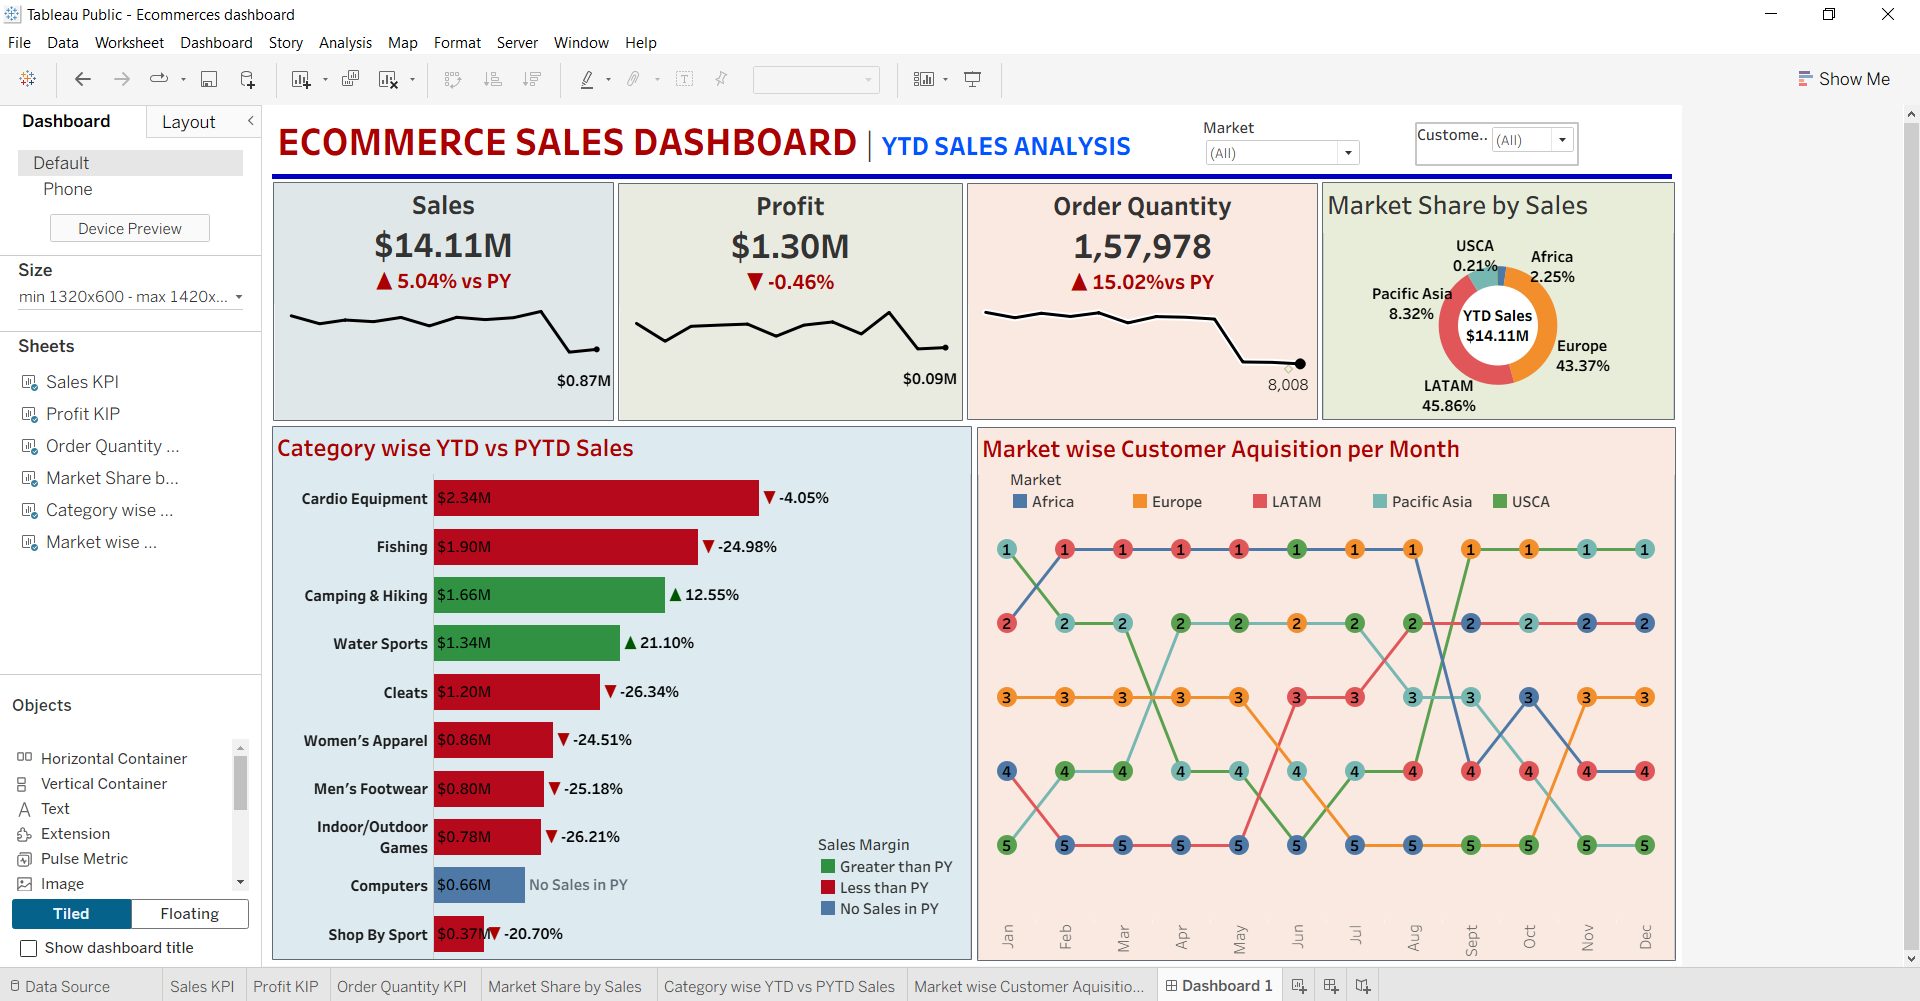

The dashboard page shown, as its layout file describes it:
{"tool":"tableau","page":{"name":"Dashboard 1","canvas":[1000,1000],"units":"permille","ordinal":0},"visuals":[{"type":"title","box":[5.6,9.3,988.7,63.8]},{"type":"filter","title":"Market wise Customer Aquisition per Month","param":"[federated.0eyibrh0id987d1epsw3r1661ml0].[none:Market:nk]","box":[662.7,15.1,112.7,56.8]},{"type":"filter","title":"Market wise Customer Aquisition per Month","param":"[federated.0eyibrh0id987d1epsw3r1661ml0].[none:Customer Segment:nk]","box":[813.4,23.2,112.7,46.4]},{"type":"blank","box":[6.3,80.2,987.3,8.4]},{"type":"worksheet","title":"Sales KPI","mark":"Automatic","rows":["Sales"],"cols":["Order Date"],"box":[7.8,91,240.1,277.8]},{"type":"worksheet","title":"Market Share by Sales","mark":"Pie","cols":["Calculation_0169092243255297","Calculation_0169092243255297"],"box":[746.5,91,248.6,276.7]},{"type":"worksheet","title":"Profit KIP","mark":"Automatic","rows":["Profit Per Order"],"cols":["Order Date"],"box":[250.7,92.2,243,276.7]},{"type":"worksheet","title":"Order Quantity KPI","mark":"Automatic","rows":["Order Quantity"],"cols":["Order Date"],"box":[496.5,92.2,247.2,275.4]},{"type":"worksheet","title":"Category wise YTD vs PYTD Sales","mark":"Bar","rows":["Category Name"],"cols":["Calculation_0169092243824642","Calculation_0169092243824642"],"box":[7,373.7,493,619.2]},{"type":"worksheet","title":"Market wise Customer Aquisition per Month","mark":"Automatic","cols":["Order Date"],"box":[503.5,374.9,492.2,619.2]},{"type":"legend","title":"Market wise Customer Aquisition per Month","param":"[federated.0eyibrh0id987d1epsw3r1661ml0].[none:Market:nk]","box":[526.8,423.9,425.4,59.9]},{"type":"legend","title":"Category wise YTD vs PYTD Sales","param":"[federated.0eyibrh0id987d1epsw3r1661ml0].[usr:Calculation_0169092249309189:nk]","box":[391.6,870.7,98.6,93.4]}]}

Visuals, with their boxes on the dashboard's canvas, which has no fixed pixel size, in thousandths of its width and height (x1, y1, x2, y2). These are canvas units, not pixel positions in the 1920x1001 screenshot, which may show the page scaled, cropped or inside an application window:
title: detection(6, 9, 994, 73)
"Market wise Customer Aquisition per Month" filter: detection(663, 15, 775, 72)
"Market wise Customer Aquisition per Month" filter: detection(813, 23, 926, 70)
blank: detection(6, 80, 994, 89)
"Sales KPI" worksheet: detection(8, 91, 248, 369)
"Market Share by Sales" worksheet (Pie marks): detection(746, 91, 995, 368)
"Profit KIP" worksheet: detection(251, 92, 494, 369)
"Order Quantity KPI" worksheet: detection(496, 92, 744, 368)
"Category wise YTD vs PYTD Sales" worksheet (Bar marks): detection(7, 374, 500, 993)
"Market wise Customer Aquisition per Month" worksheet: detection(504, 375, 996, 994)
"Market wise Customer Aquisition per Month" legend: detection(527, 424, 952, 484)
"Category wise YTD vs PYTD Sales" legend: detection(392, 871, 490, 964)
